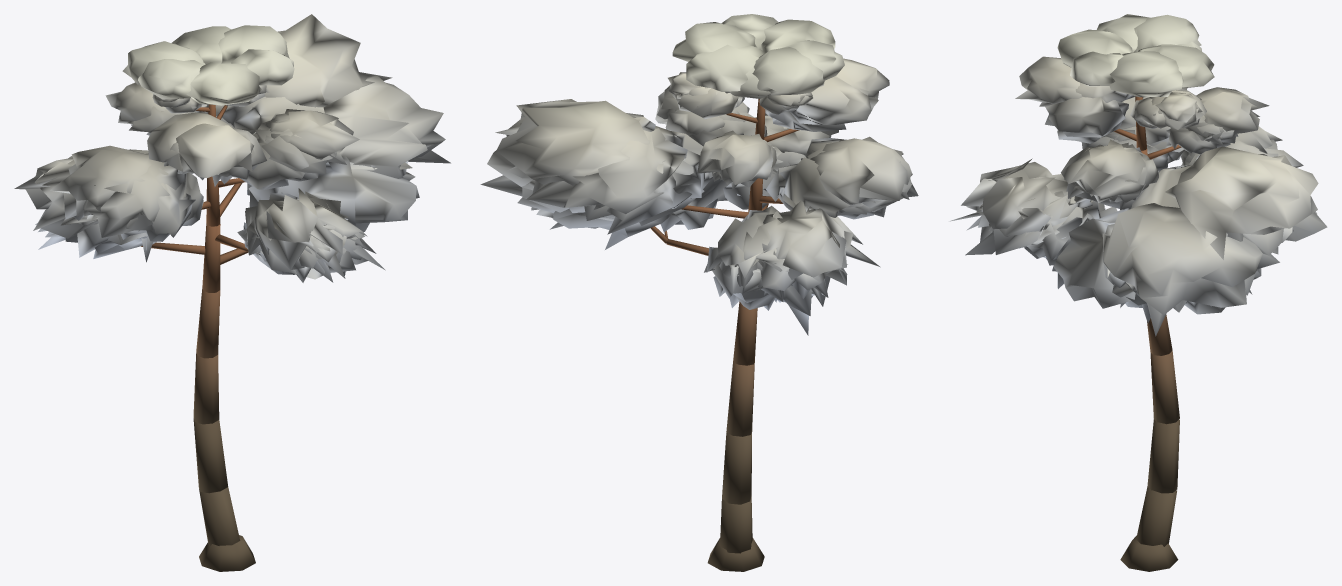
The picture shows the model from 3 angles, left to right: view 1: azimuth 30°, elevation 25°; view 2: azimuth 150°, elevation 25°; view 3: azimuth 270°, elevation 25°; orthographic projection. The views are drawn at different scales.
Visible parts, largest first — view 1: crown, trunk1, trunk2; view 2: crown, trunk1, trunk2; view 3: crown, trunk1, trunk2.
Boxes of the visible parts, <box> form: crown: <box>14,14,450,282</box>; trunk1: <box>193,352,255,571</box>; trunk2: <box>141,104,248,358</box>; crown: <box>480,14,918,335</box>; trunk1: <box>707,362,764,571</box>; trunk2: <box>650,99,799,365</box>; crown: <box>949,14,1327,336</box>; trunk1: <box>1120,350,1179,571</box>; trunk2: <box>1114,96,1181,355</box>.
Bounding box in the file's own units: 19.68 × 24.73 × 16.62.
